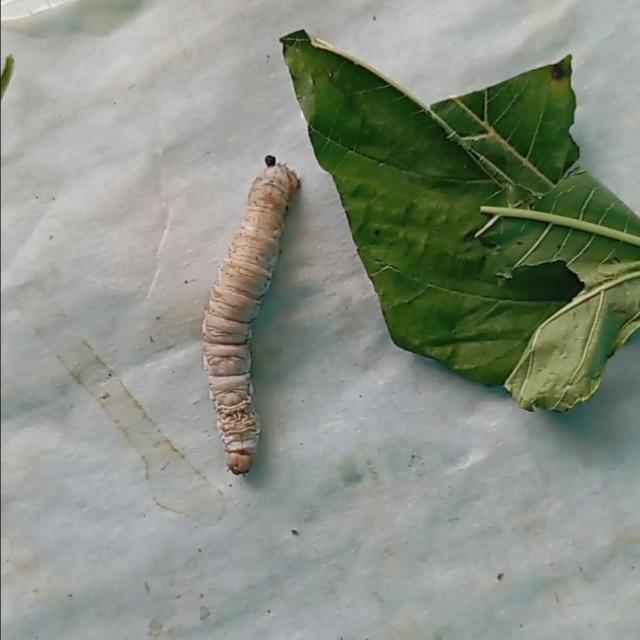Grasserie: (185, 144, 301, 489)
